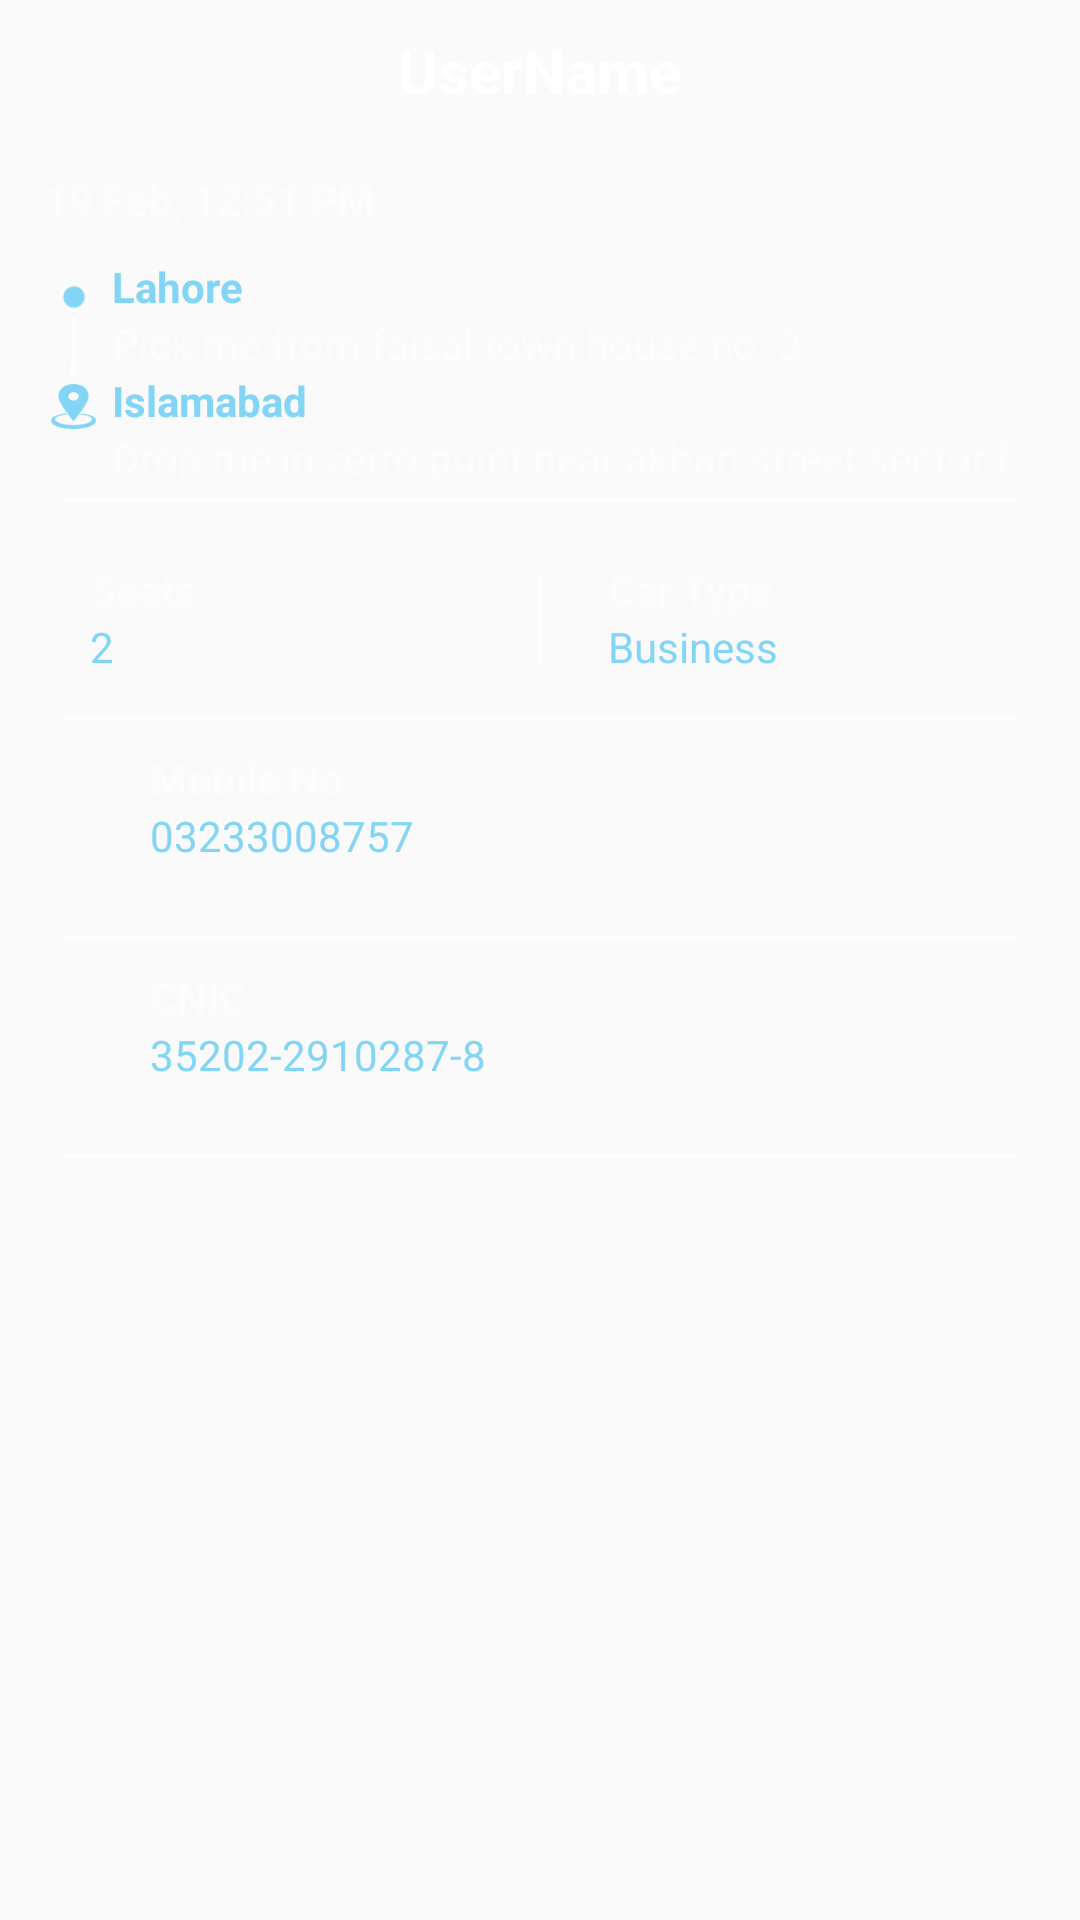

Screen size 1080×1920. Icon name, then its center in pixels as (x=x, y=y):
locaion marker: (x=73, y=406)
